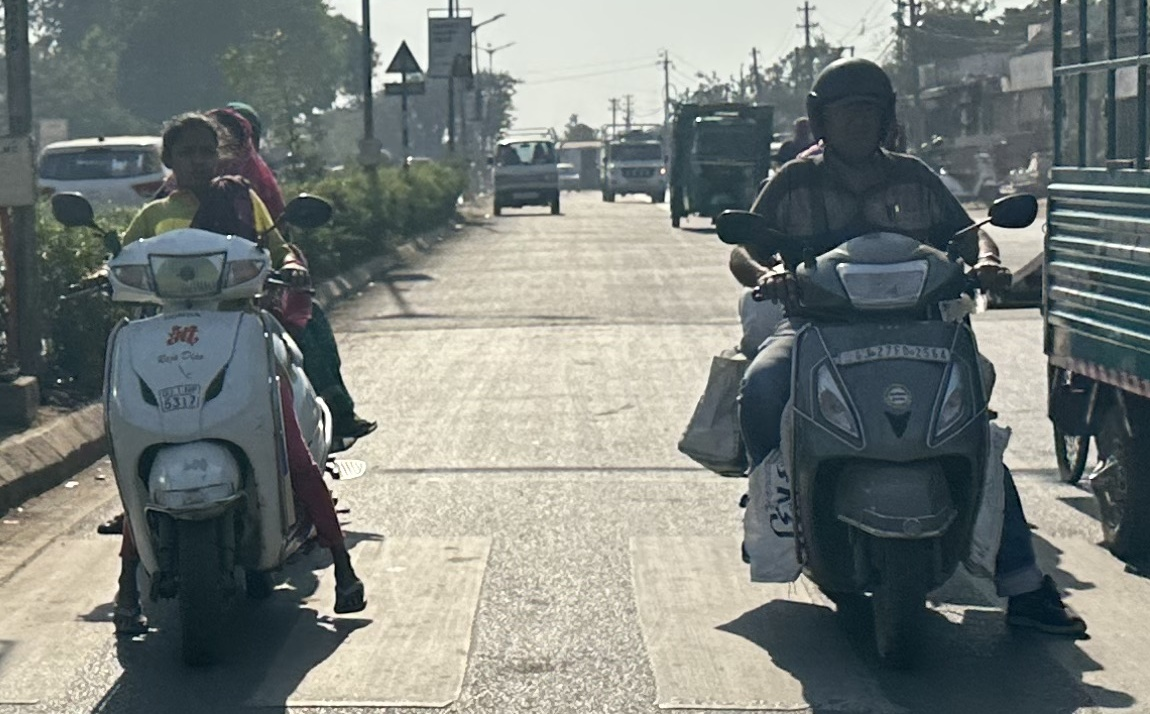BikeWithRider: (672, 58, 1092, 673), (40, 98, 381, 673)
Helmet: (804, 58, 903, 172)
NoHelmet: (150, 109, 229, 196), (210, 100, 263, 159)
